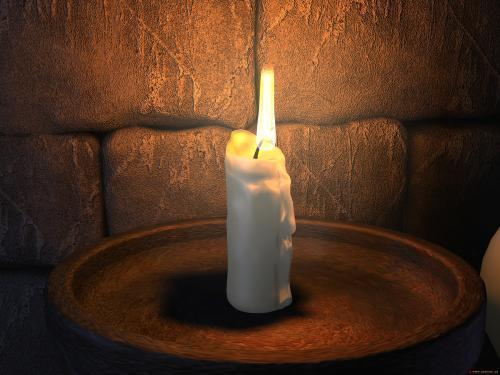fire: (248, 62, 288, 159)
